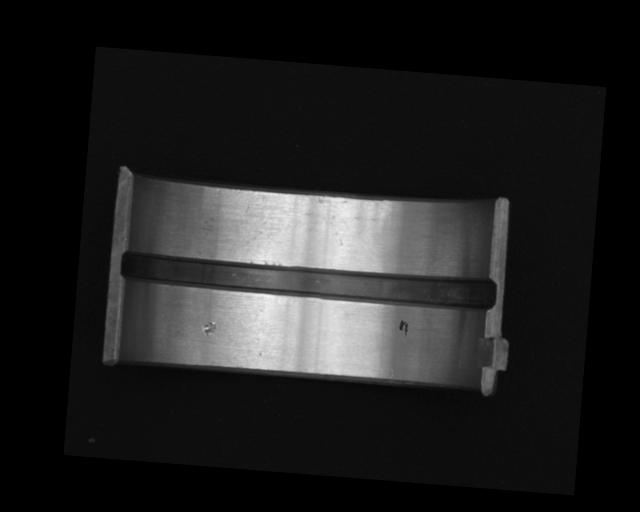blot: (398, 318, 409, 337)
bruise: (201, 319, 218, 337)
gap: (118, 249, 496, 314)
